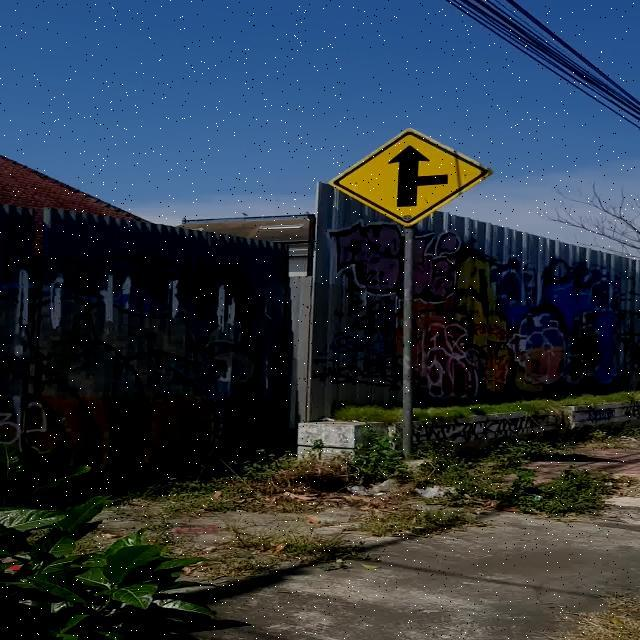Persimpangan 3 Prioritas Kanan: (329, 128, 493, 227)
